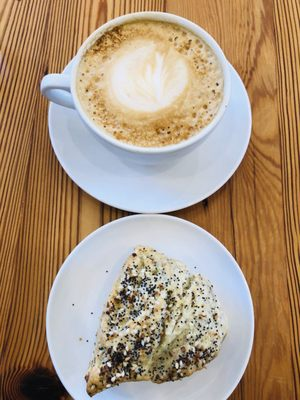sushi: (44, 215, 256, 398), (42, 12, 230, 156)
